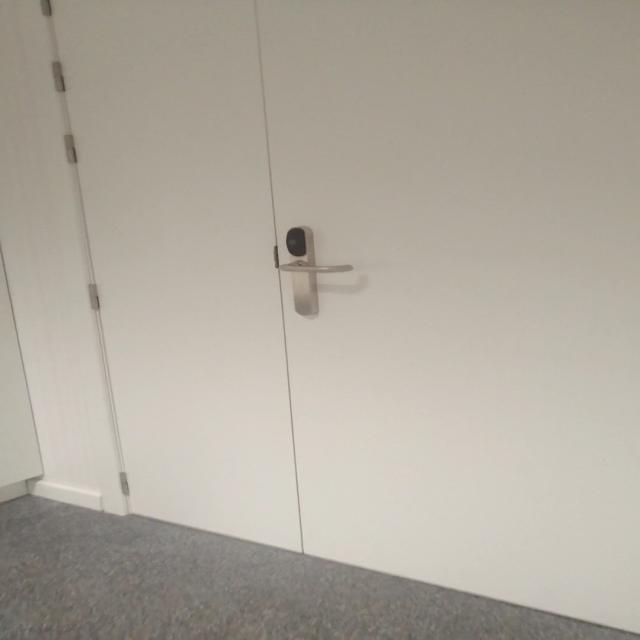door_handle: (266, 259, 361, 278)
